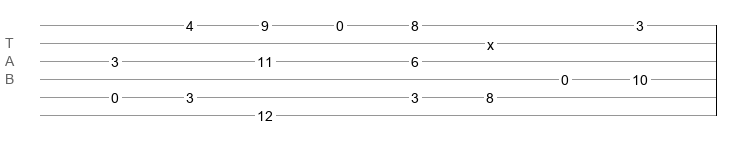0: (111, 90, 119, 100), (336, 18, 344, 28), (561, 72, 569, 82)
10: (632, 72, 648, 82)
11: (257, 54, 273, 64)
12: (257, 108, 273, 118)
3: (111, 54, 119, 64), (186, 90, 194, 100), (411, 90, 419, 100), (636, 18, 644, 28)
4: (186, 18, 194, 28)
6: (411, 54, 419, 64)
8: (411, 18, 419, 28), (486, 90, 494, 100)
9: (261, 18, 269, 28)
x: (487, 37, 494, 45)
